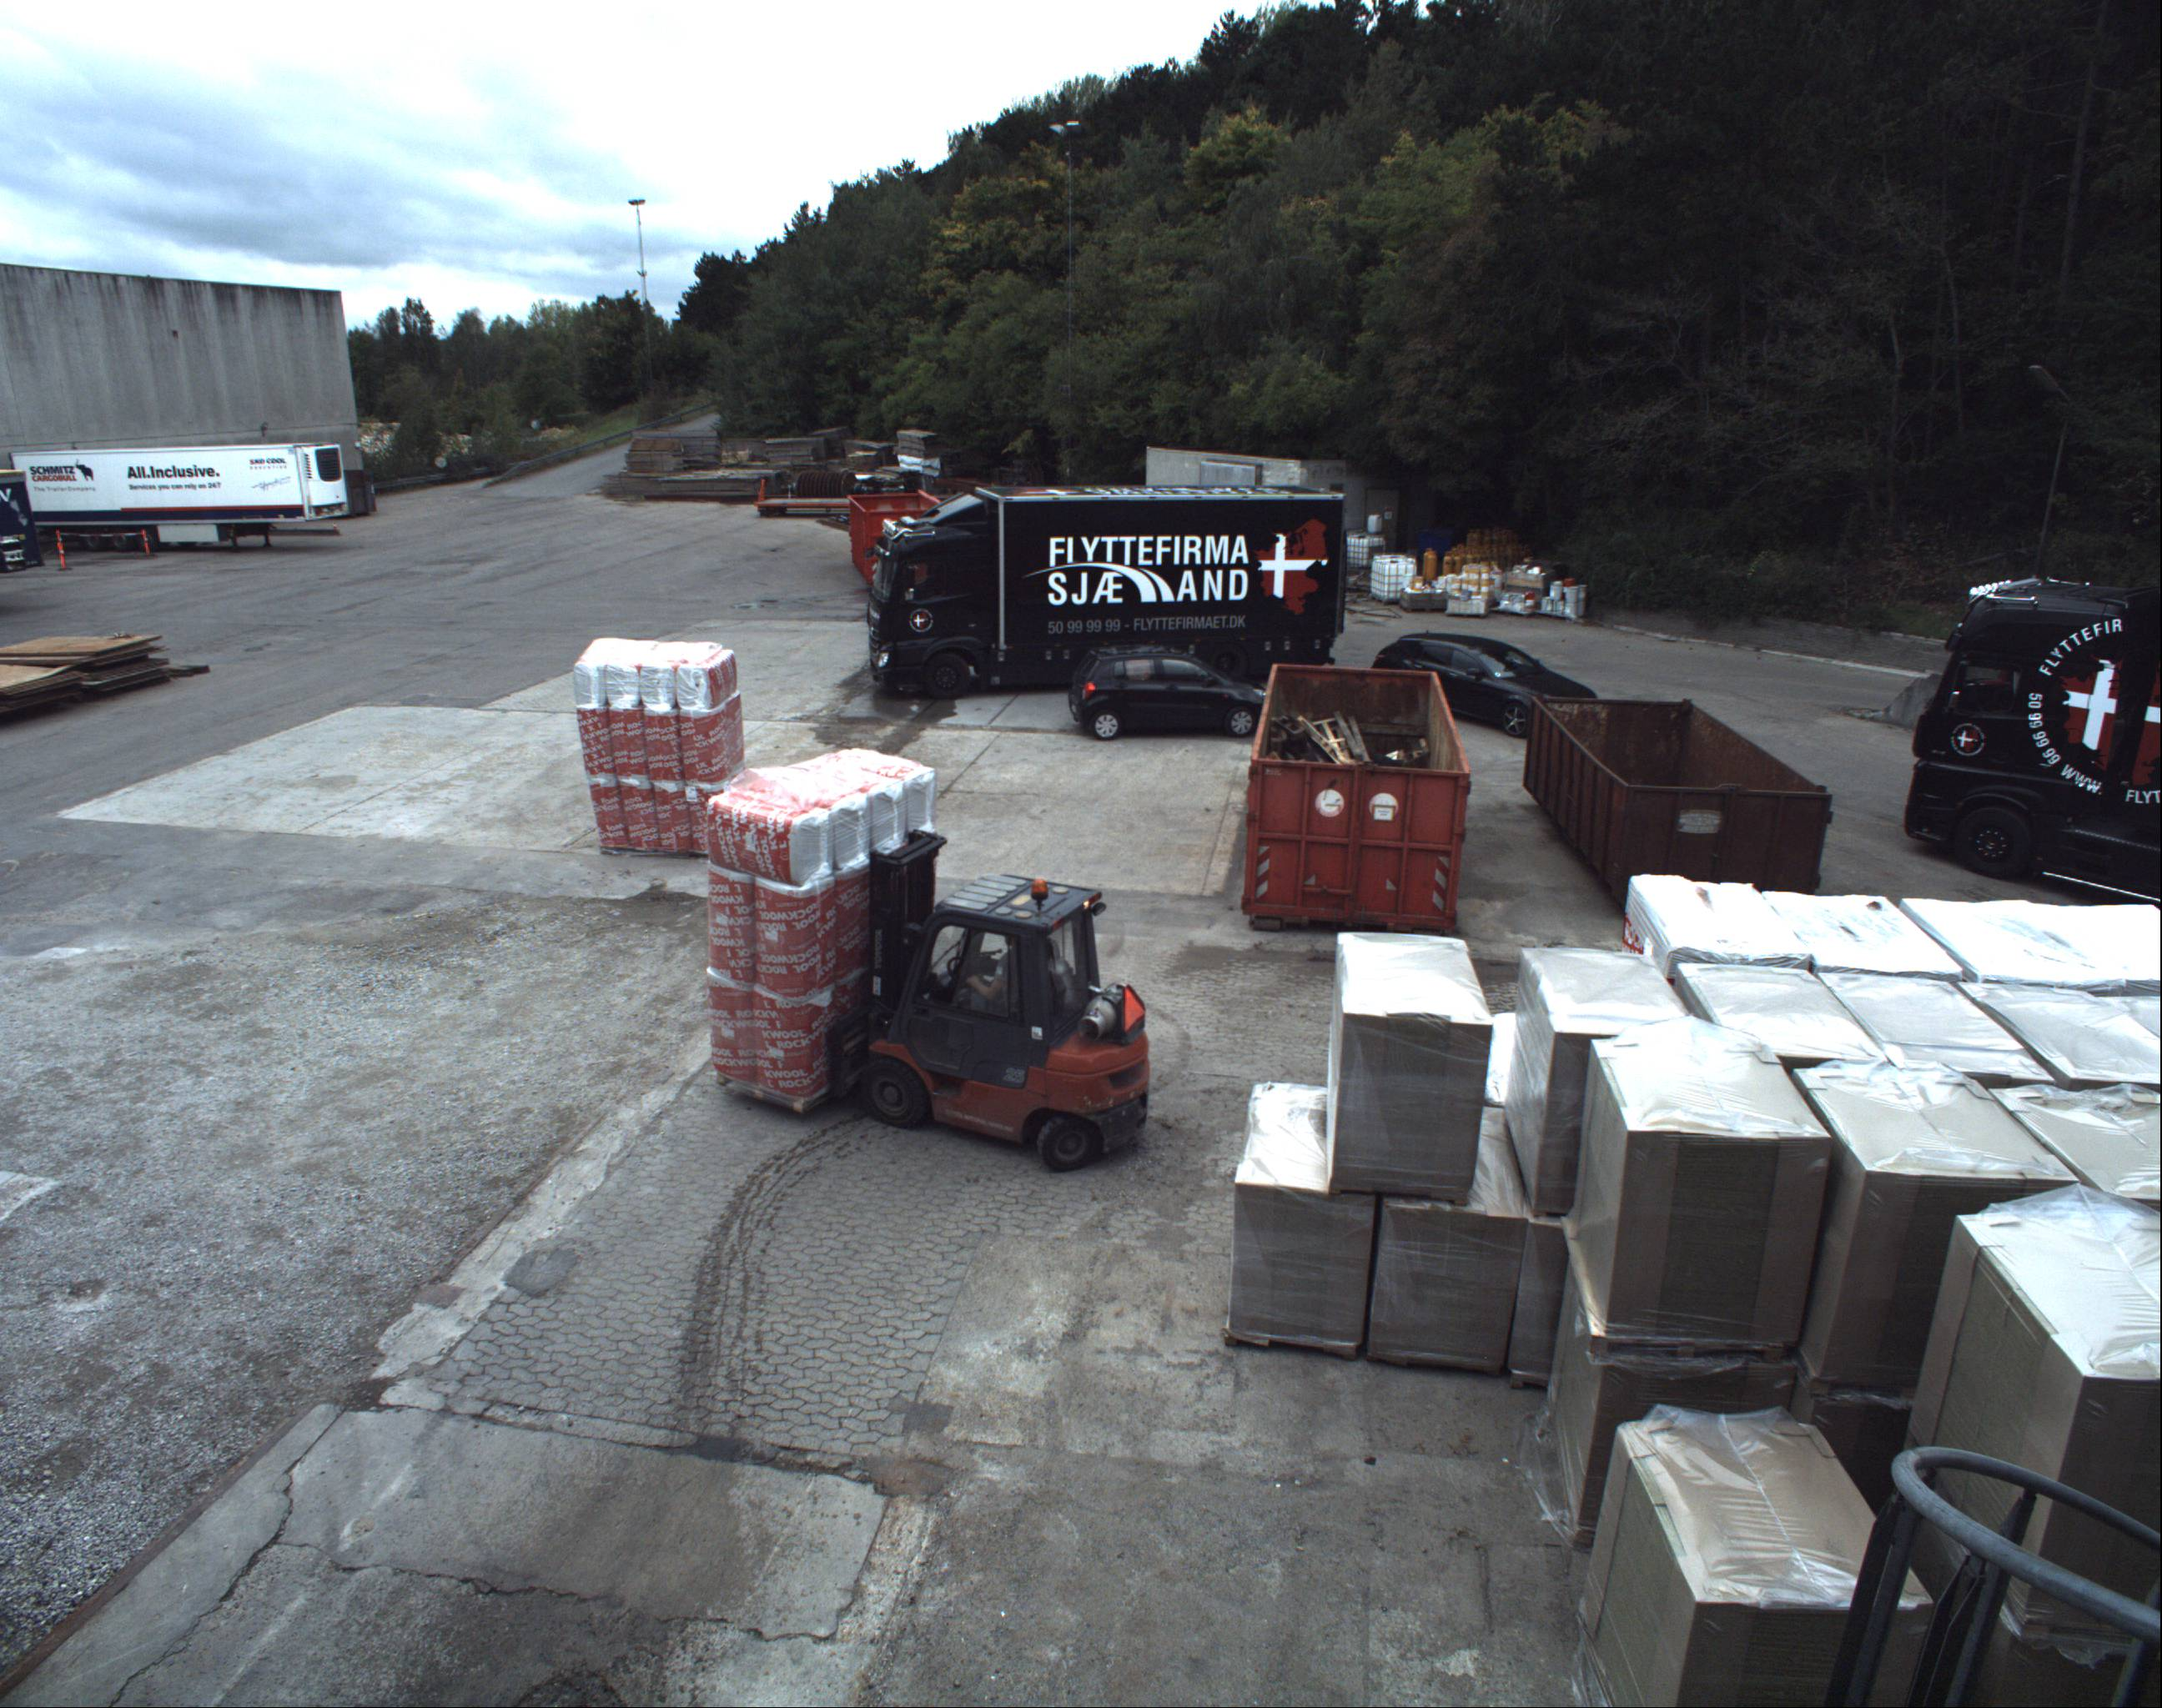rockwool_batts: (705, 741, 923, 1115), (579, 625, 751, 855)
